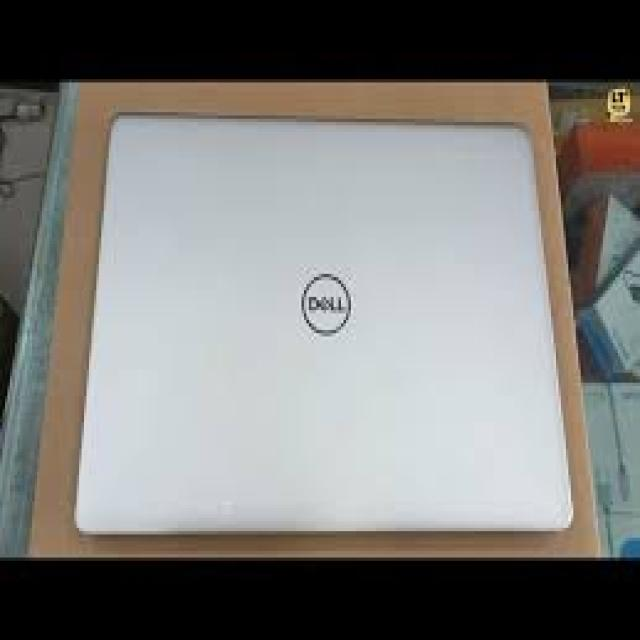laptop: (72, 105, 578, 538)
